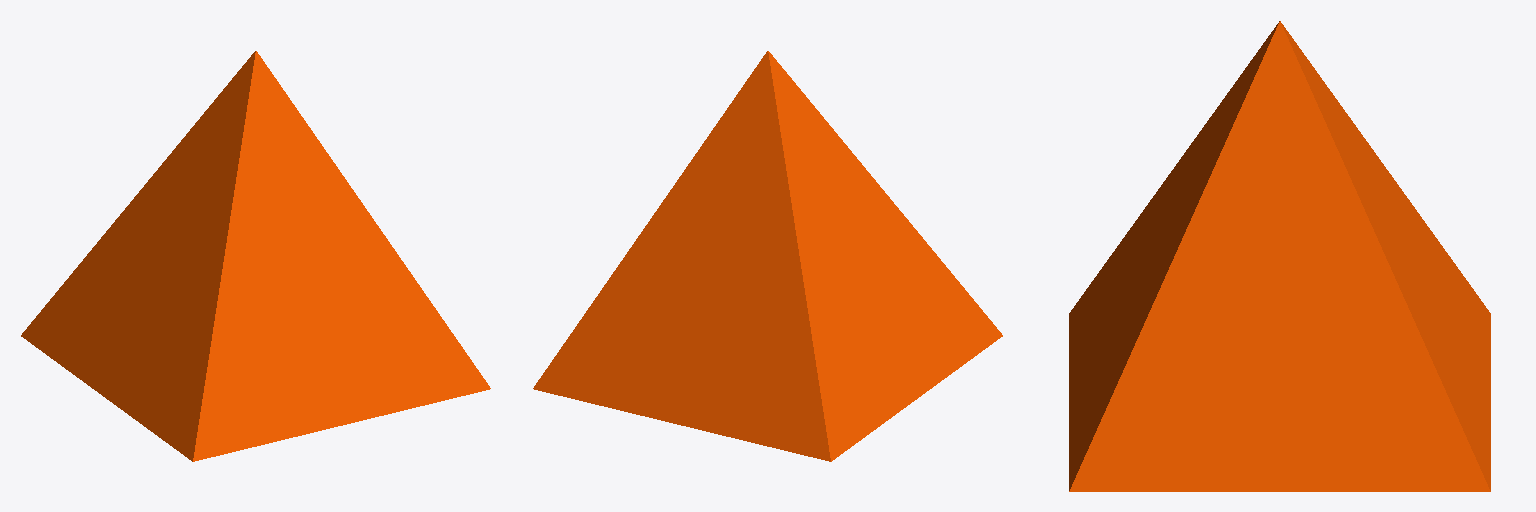
robot.urdf — pyramidsmall:
<?xml version="1.0" ?>
<robot name="pyramidsmall">
   <material name="obj_color">
      <color rgba="1.0 0.423529411765 0.0392156862745 1.0"/>
   </material>
   <link name="top">
      <inertial>
         <origin rpy="5.853339984427889e-06 5.85334051193635e-06 6.689531428620762e-06" xyz="-5.170157800612874e-20 8.041018668238728e-10 -0.009999819482133564"/>
         <mass value="0.0418110771631702"/>
         <inertia ixx="5.85334051193635e-06" ixy="1.182178784951109e-23" ixz="-5.404636893911114e-24" iyy="5.853339984427891e-06" iyz="-4.345819467389954e-15" izz="6.689531428620762e-06"/>
      </inertial>
      <visual>
         <origin rpy="0 0 0" xyz="0 0 0"/>
         <geometry>
            <mesh filename="top_watertight_tiny.stl" scale="1 1 1"/>
         </geometry>
         <material name="obj_color"/>
      </visual>
      <collision>
         <origin rpy="0 0 0" xyz="0 0 0"/>
         <geometry>
            <mesh filename="top_watertight_tiny.obj" scale="1 1 1"/>
         </geometry>
      </collision>
   </link>
   <link name="bottom">
      <inertial>
         <origin rpy="1.633333333194242e-08 1.633333333194243e-08 1.633333333357667e-08" xyz="0.3464080000000008 0.3464080000000008 0.3464080000000008"/>
         <mass value="0.0009800000000000017"/>
         <inertia ixx="1.633333333248717e-08" ixy="5.447480642029219e-19" ixz="5.447480642029219e-19" iyy="1.633333333248717e-08" iyz="5.447480642029219e-19" izz="1.633333333248717e-08"/>
      </inertial>
      <visual>
         <origin rpy="0 0 0" xyz="0 0 0"/>
         <geometry>
            <mesh filename="bottom_watertight_tiny.stl" scale="1 1 1"/>
         </geometry>
         <material name="obj_color"/>
      </visual>
   </link>
   <link name="world"/>
   <joint name="world_to_base" type="fixed">
      <origin xyz="0 0 0"/>
      <axis xyz="0 0 0"/>
      <parent link="world"/>
      <child link="bottom"/>
   </joint>
   <joint name="rotation" type="revolute">
      <origin xyz="0 0 0"/>
      <axis xyz="0 0 -1"/>
      <parent link="bottom"/>
      <child link="top"/>
      <dynamics damping="1.0" friction="1.0"/>
      <limit effort="0.1" velocity="0.1" lower="0" upper="0.001"/>
   </joint>
</robot>

--- What the picture shows (computed from the rendered views, not written in the file) ---
The picture shows the robot from 3 angles, left to right: view 1: azimuth 30°, elevation 25°; view 2: azimuth 150°, elevation 25°; view 3: azimuth 270°, elevation 25°; orthographic projection.
Model pyramidsmall with 3 links and 2 joints (1 revolute, 1 fixed), rooted at world, posed every joint at zero.
Links seen in each view (by area): view 1: top; view 2: top; view 3: top.
Boxes of the visible links, left/top/right/bottom form: top: left=21, top=51, right=490, bottom=461; top: left=533, top=51, right=1002, bottom=461; top: left=1069, top=21, right=1490, bottom=491.
Bounding box of the posed robot: 0.04 × 0.04 × 0.04 m (x, y, z).
Meshes: 2 distinct files referenced, 1 mesh visuals loaded (1 binary STL); not drawn: 1 (reference not matched to a file when rendering).
